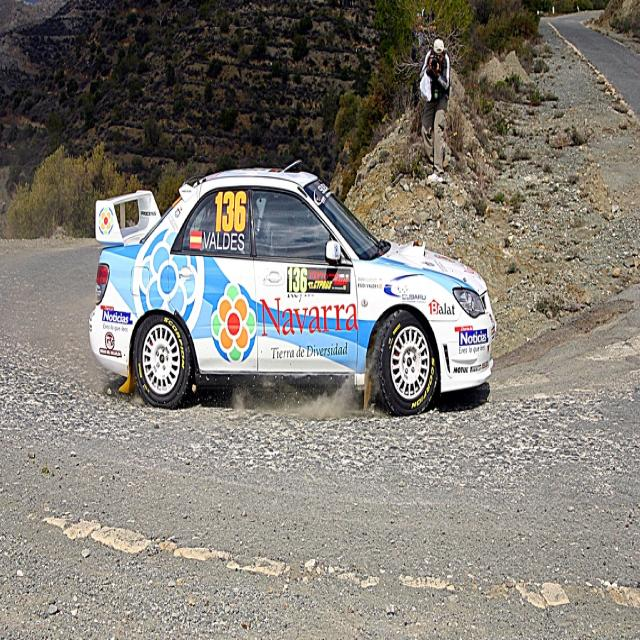car: (82, 162, 490, 427)
